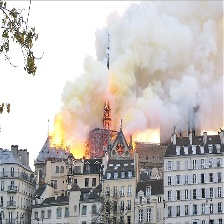fire: (47, 127, 83, 161), (125, 129, 169, 155)
smoke: (41, 1, 224, 130)
